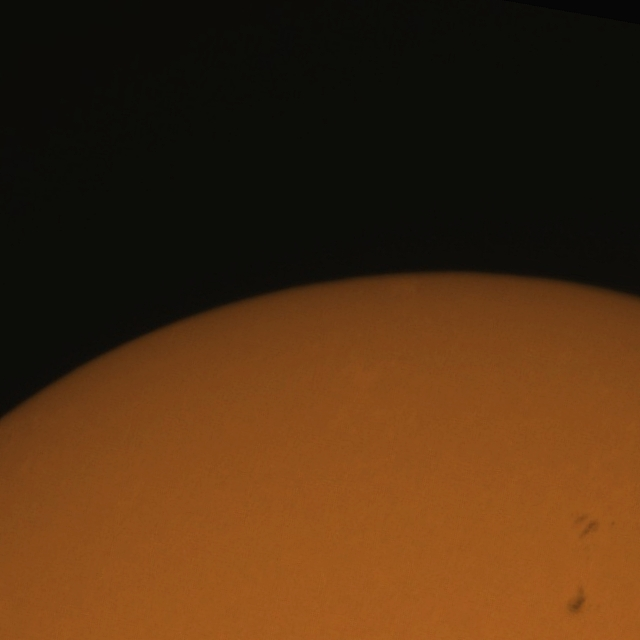sunspot: (572, 512, 598, 540), (566, 588, 590, 616)
